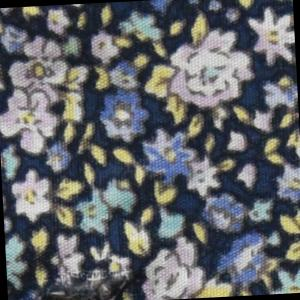Damage: (32, 194, 143, 300)
